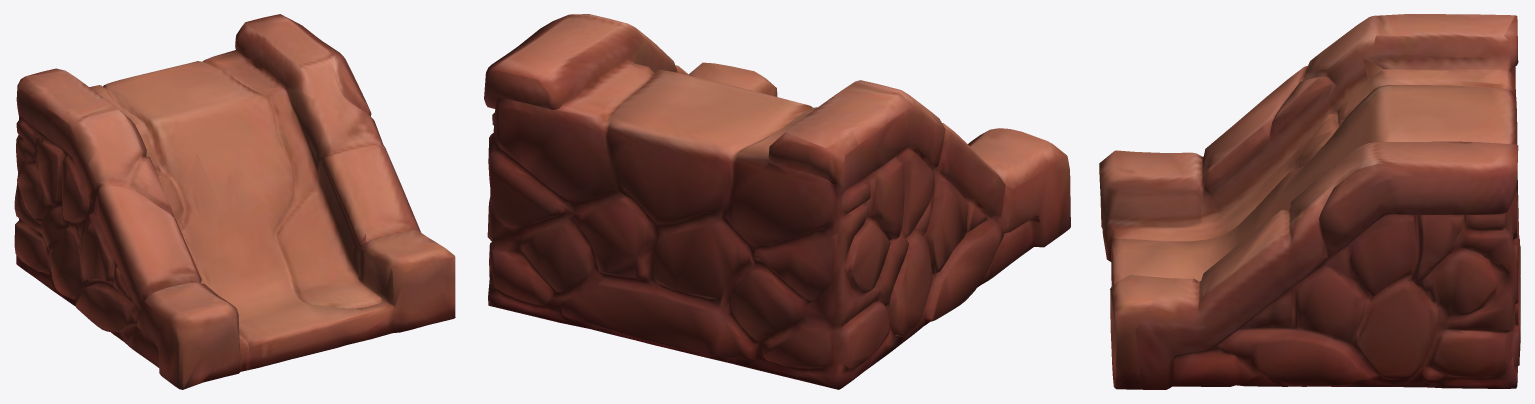
Rendered from t08_rampa_terra.glb.
The picture shows the model from 3 angles, left to right: view 1: azimuth 30°, elevation 25°; view 2: azimuth 150°, elevation 25°; view 3: azimuth 270°, elevation 25°; orthographic projection. The views are drawn at different scales.
Parts seen in each view (by area): view 1: t08_rampa_terra; view 2: t08_rampa_terra; view 3: t08_rampa_terra.
Boxes of the visible parts, x1,y1,x2,y2 form: t08_rampa_terra: (14,14,455,389); t08_rampa_terra: (484,14,1070,389); t08_rampa_terra: (1099,14,1520,389).
Bounding box in the file's own units: 0.944 × 0.5859 × 1.01.
1 material, 1 textured.
